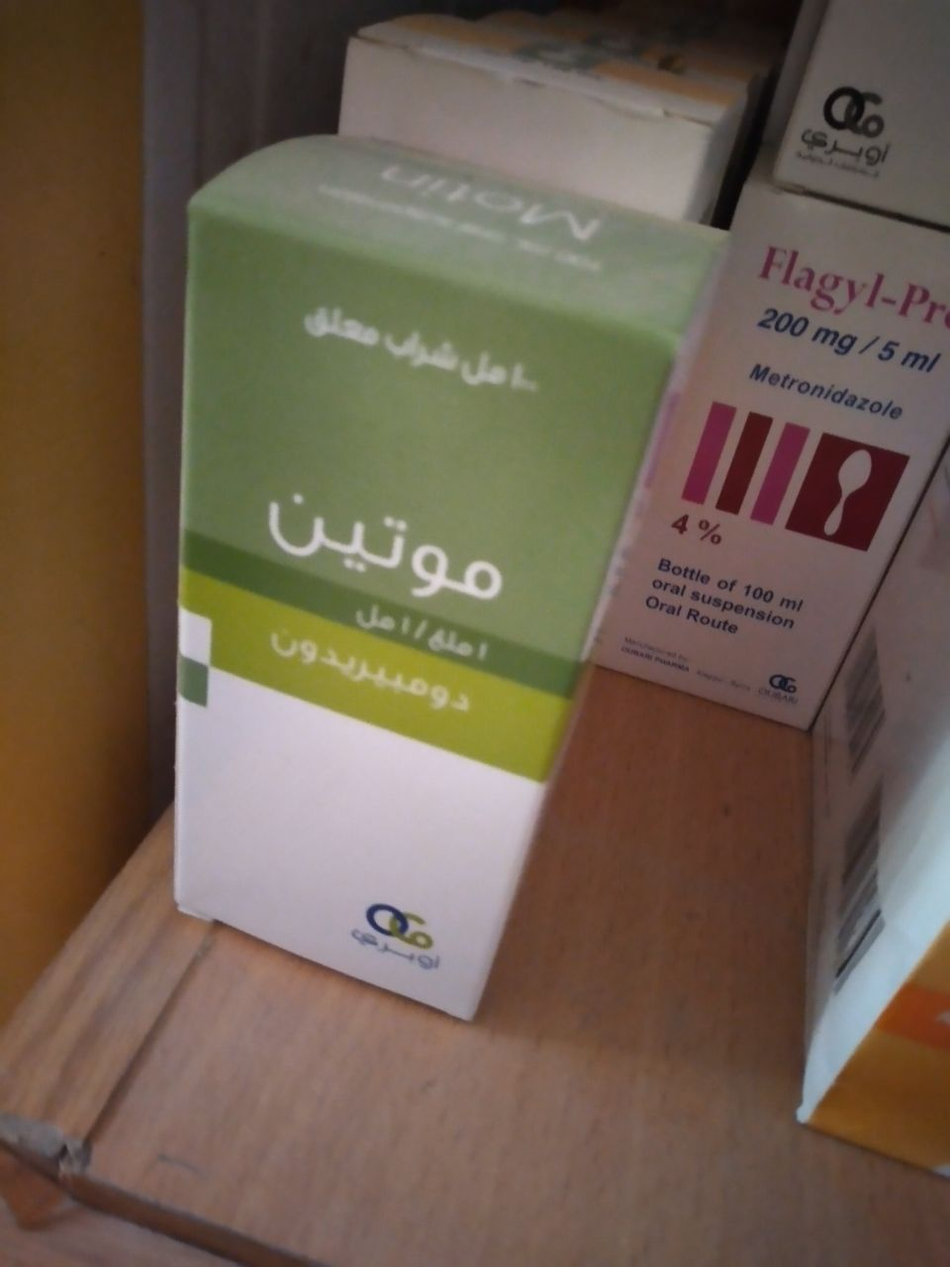Medicine: (168, 135, 706, 1020), (607, 181, 950, 696)
